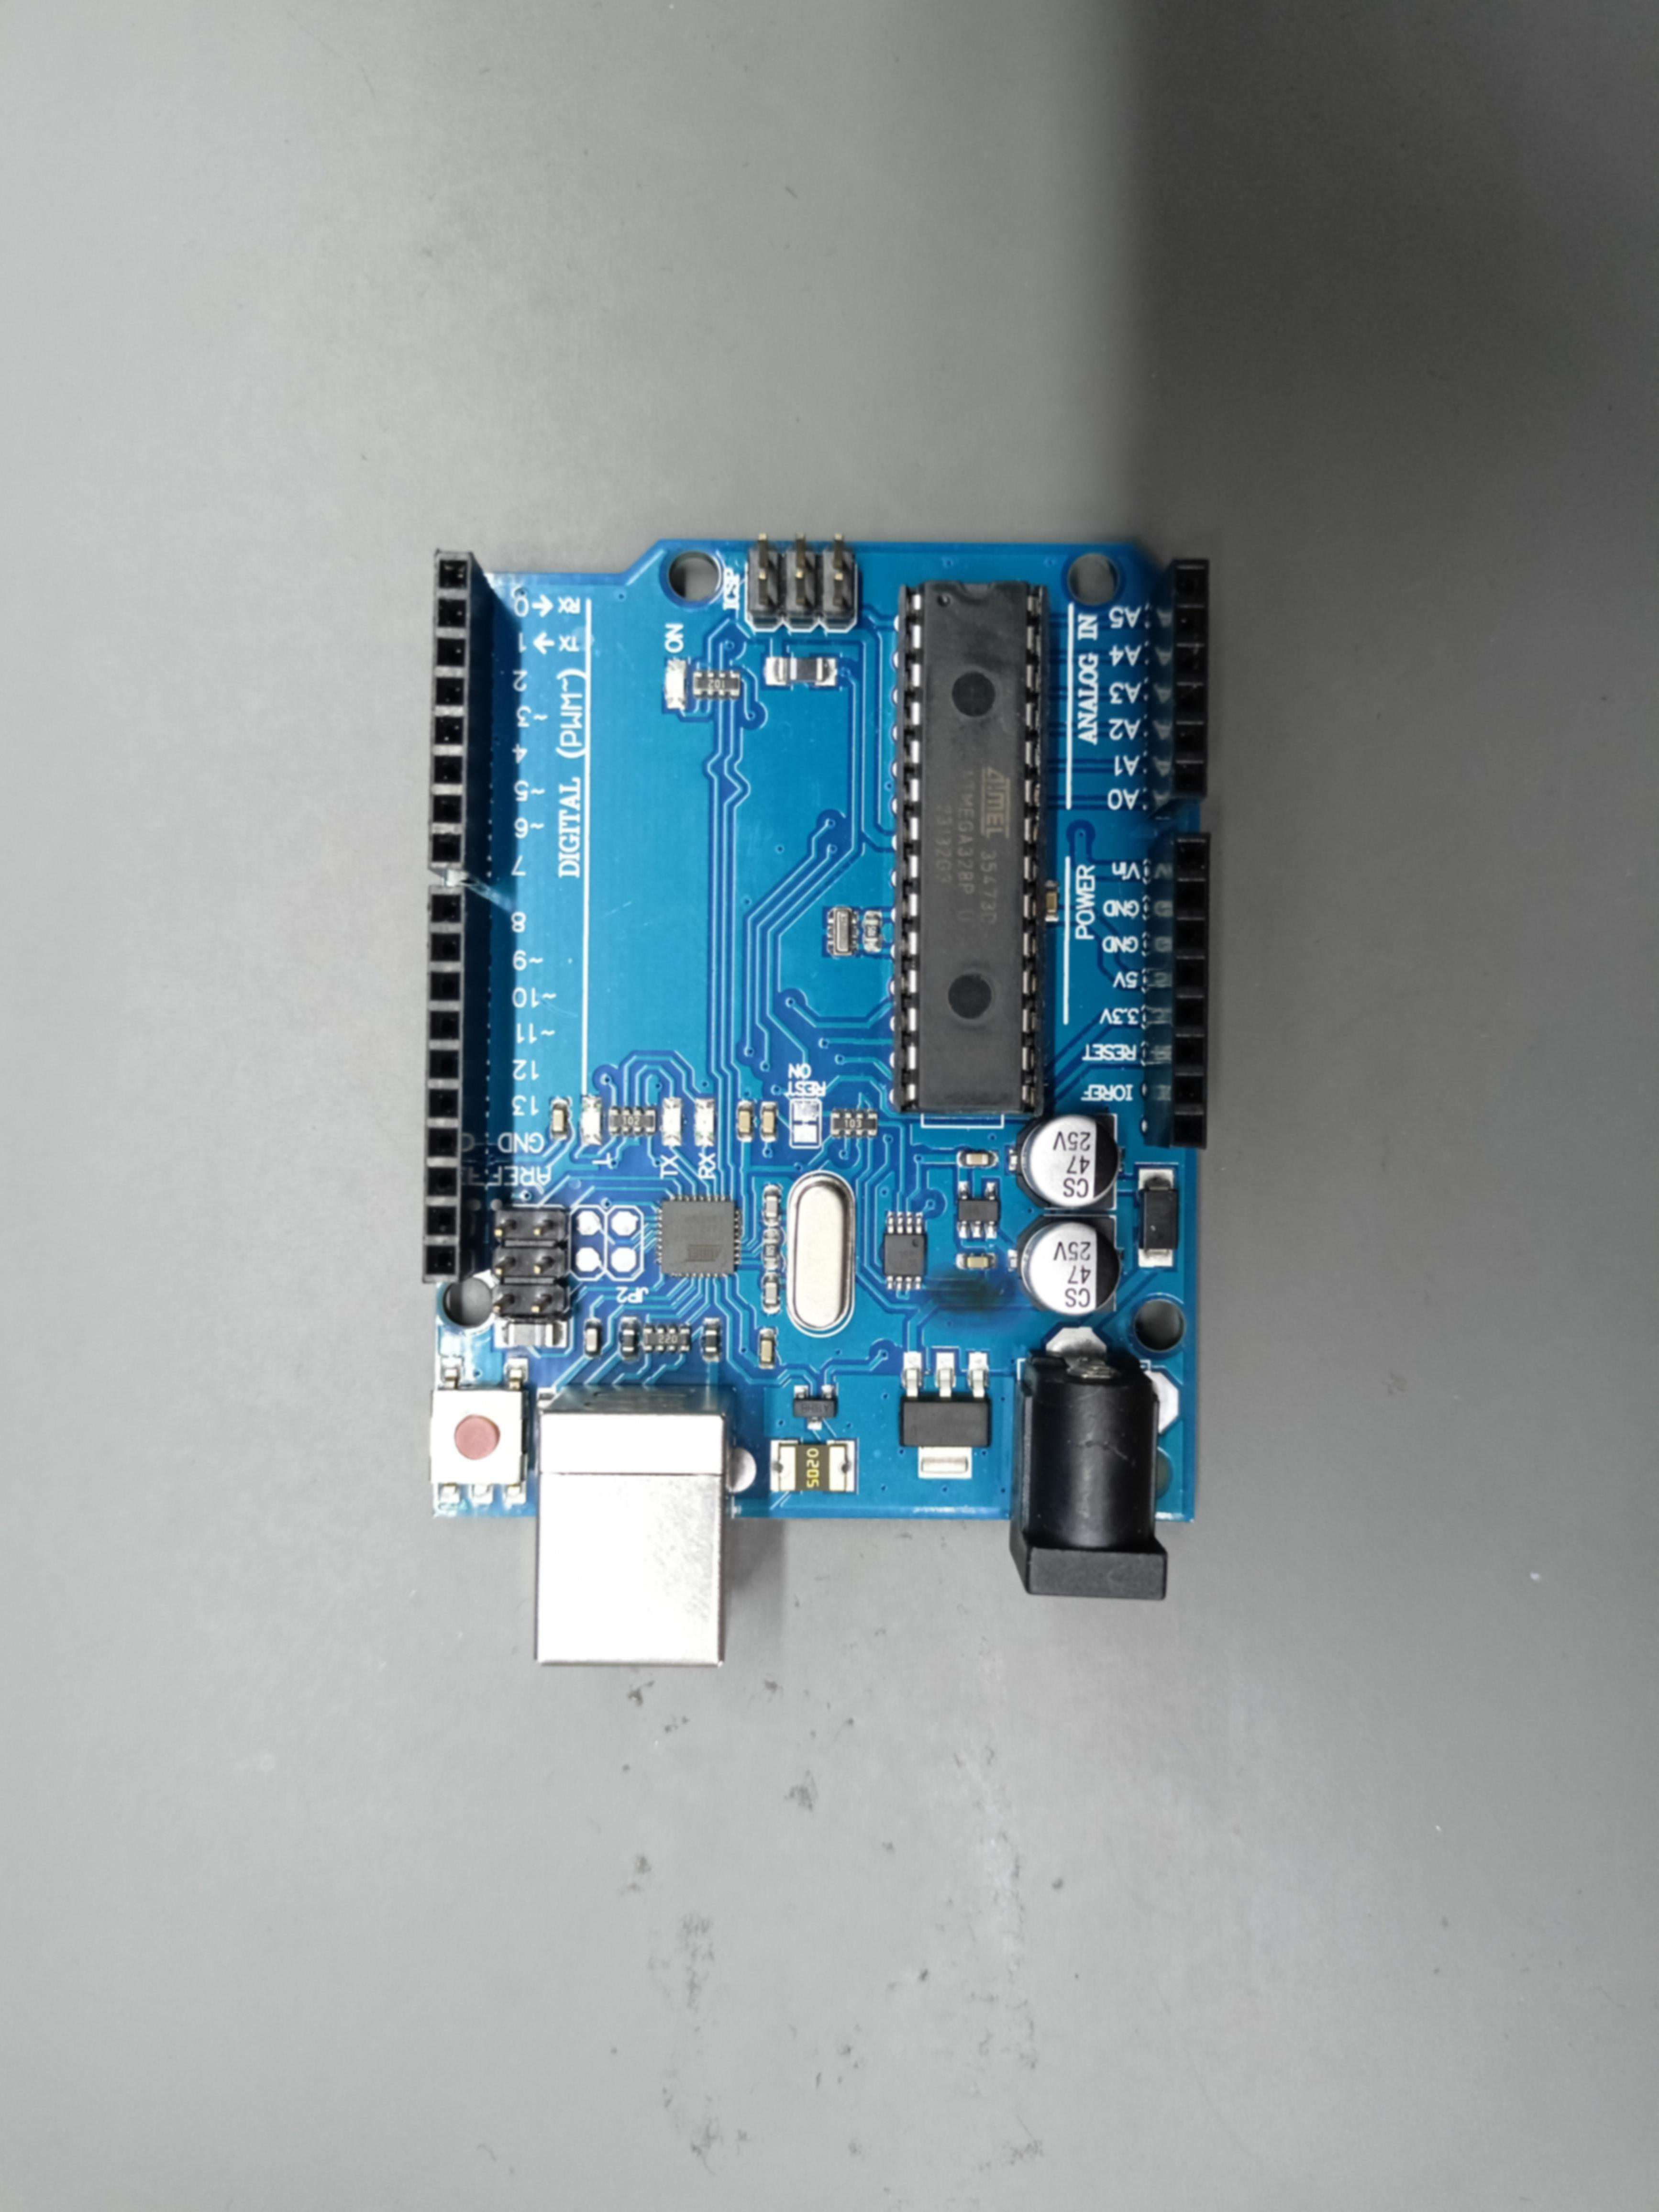ATmega328 chip: (892, 580, 1049, 1118)
Arduino board: (422, 533, 1211, 1667)
Overheat: (915, 1263, 1033, 1334)
USB: (535, 1385, 737, 1667)
capacitor: (1016, 1214, 1121, 1315), (1016, 1113, 1121, 1209)
pins: (422, 885, 490, 1284), (429, 549, 493, 887), (1145, 831, 1211, 1150), (1147, 557, 1209, 819)
resistor: (694, 671, 739, 700), (608, 1108, 655, 1136), (643, 1325, 690, 1353), (831, 1109, 877, 1137)
